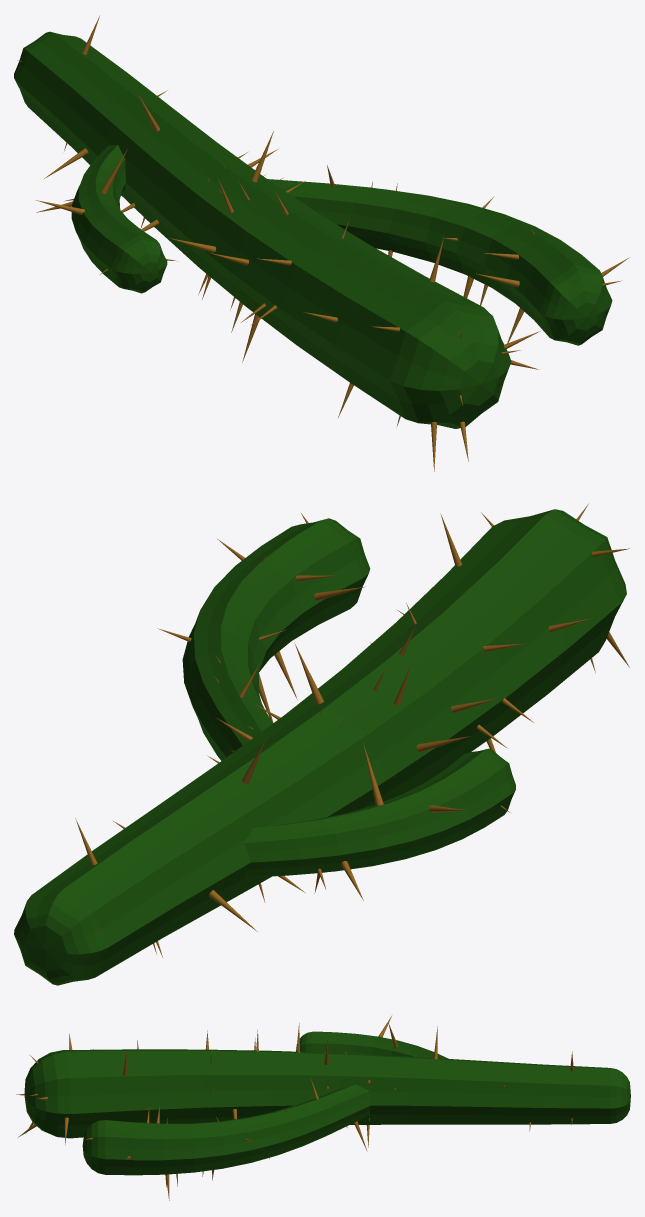
File: cactus.obj
3 views of the same model, one above another, from view 1: azimuth 30°, elevation 25°; view 2: azimuth 150°, elevation 25°; view 3: azimuth 270°, elevation 25° (orthographic). The views are drawn at different scales.
Visible parts, largest first — view 1: Cylinder.005; view 2: Cylinder.005; view 3: Cylinder.005.
Boxes of the visible parts, left/top/right/bottom form: Cylinder.005: left=14, top=16, right=629, bottom=471; Cylinder.005: left=14, top=504, right=629, bottom=985; Cylinder.005: left=16, top=1016, right=630, bottom=1200.
Size of the model in its own units: 3.56 by 1.6 by 6.87.
